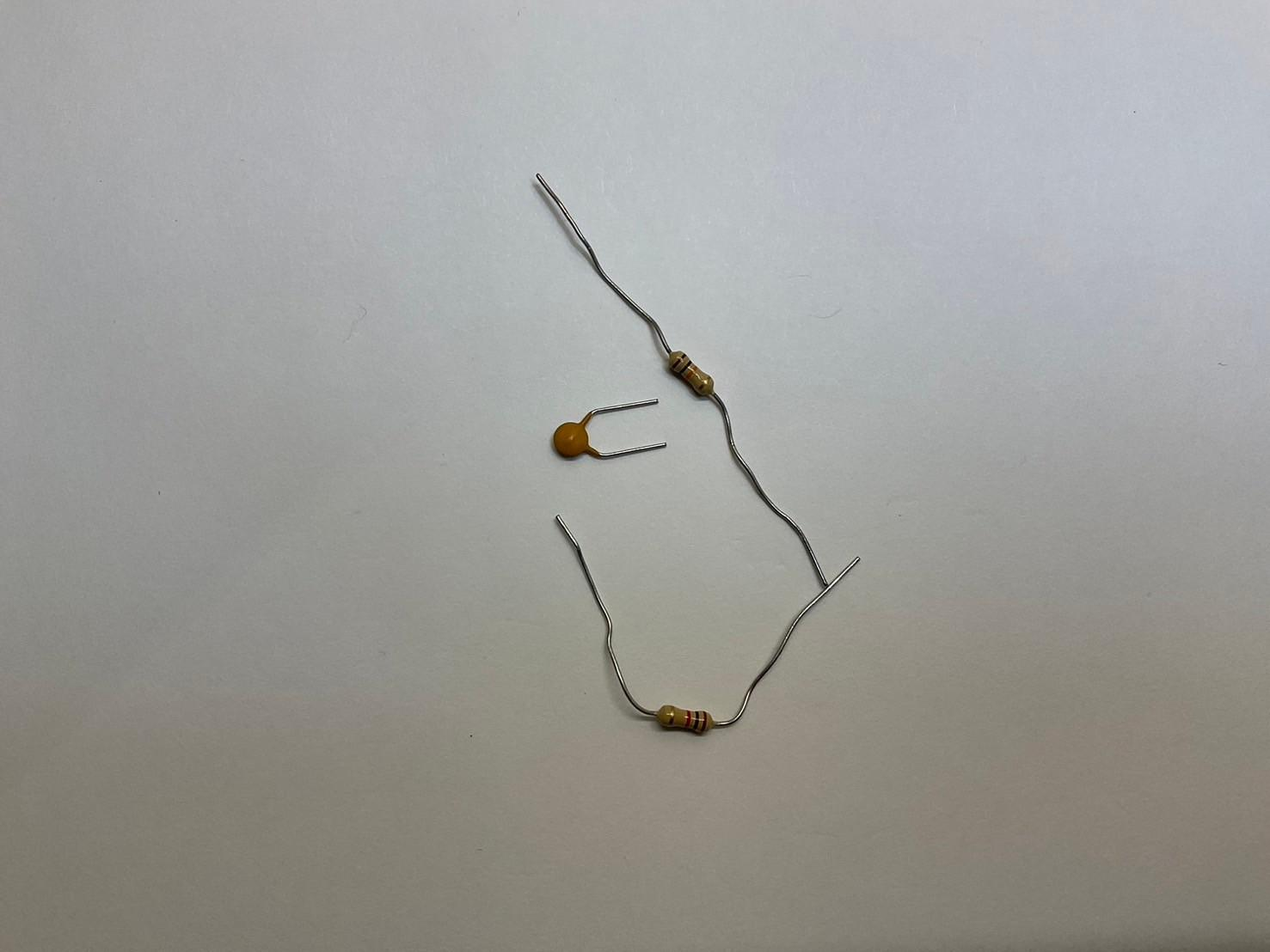resistor: (666, 350, 716, 399), (656, 702, 715, 735)
